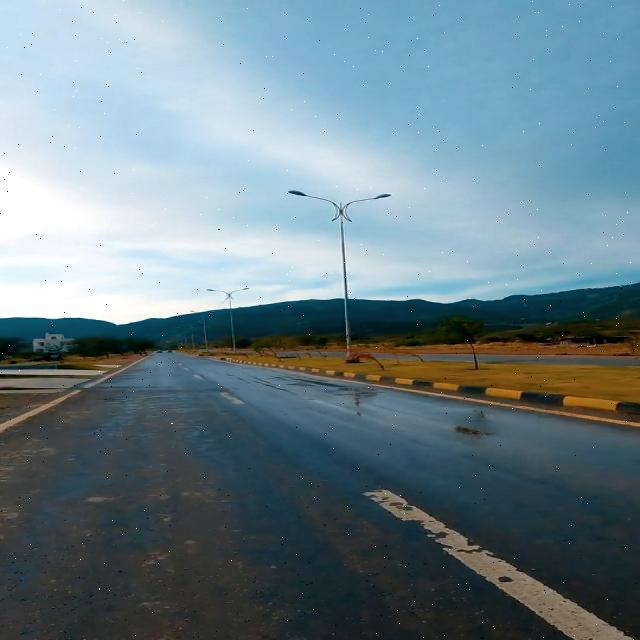lane: (363, 489, 632, 639)
road: (2, 353, 638, 639)
